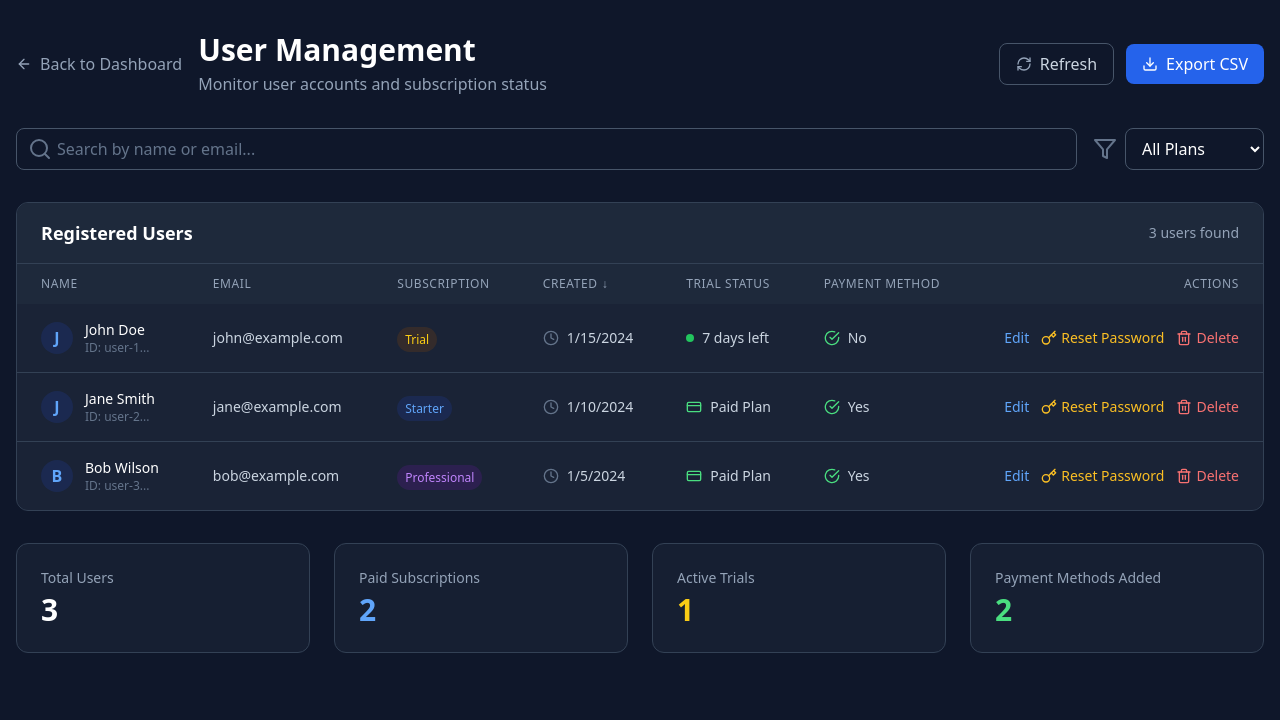
Test case: UserDashboard Component › Search Functionality › should filter users by email when searching
Expected: the text "John Doe" is shown, [85,320,150,340]
Type "bob@" into the field with placeholder "Search by name or email..." at (546, 149), box [16,128,1077,170]
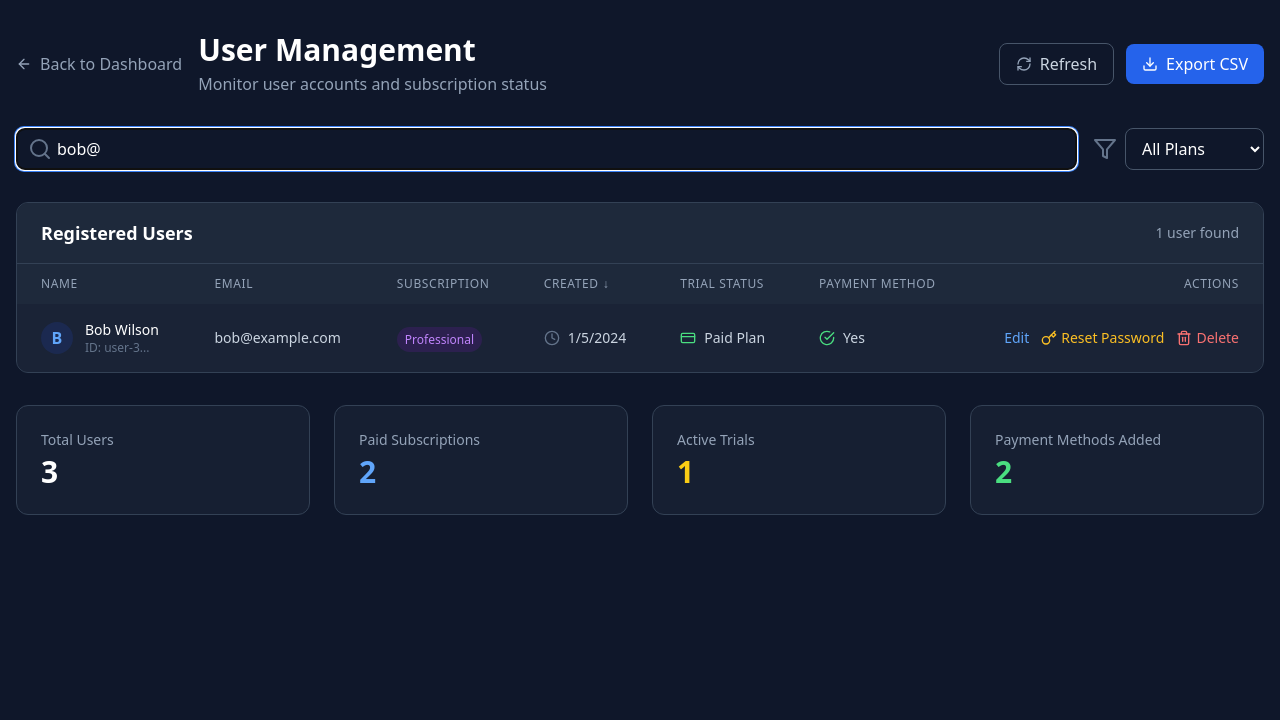
Expected: the text "Bob Wilson" is shown, [85,320,159,340]
Expected: the text "John Doe" is gone
